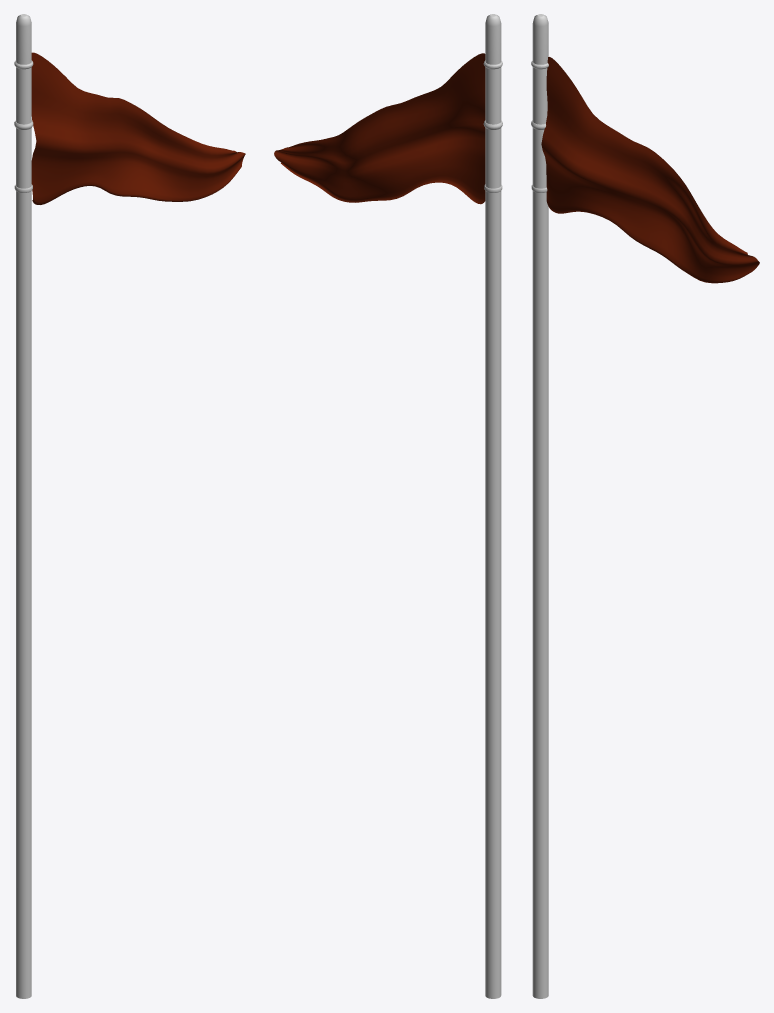
Rendered from flag.fbx.
3 renders of one model, left to right at view 1: azimuth 30°, elevation 25°; view 2: azimuth 150°, elevation 25°; view 3: azimuth 330°, elevation 25°, orthographic.
Parts seen in each view (by area): view 1: flag1, wood; view 2: flag1, wood; view 3: flag1, wood.
Part boxes in pixels (x1=…): flag1: x1=31, y1=52, x2=245, y2=204; wood: x1=14, y1=14, x2=33, y2=998; flag1: x1=274, y1=53, x2=485, y2=204; wood: x1=483, y1=14, x2=502, y2=998; flag1: x1=541, y1=57, x2=759, y2=283; wood: x1=531, y1=14, x2=548, y2=998.
Bounding box in the file's own units: 5.08 × 20.8 × 0.8603.
